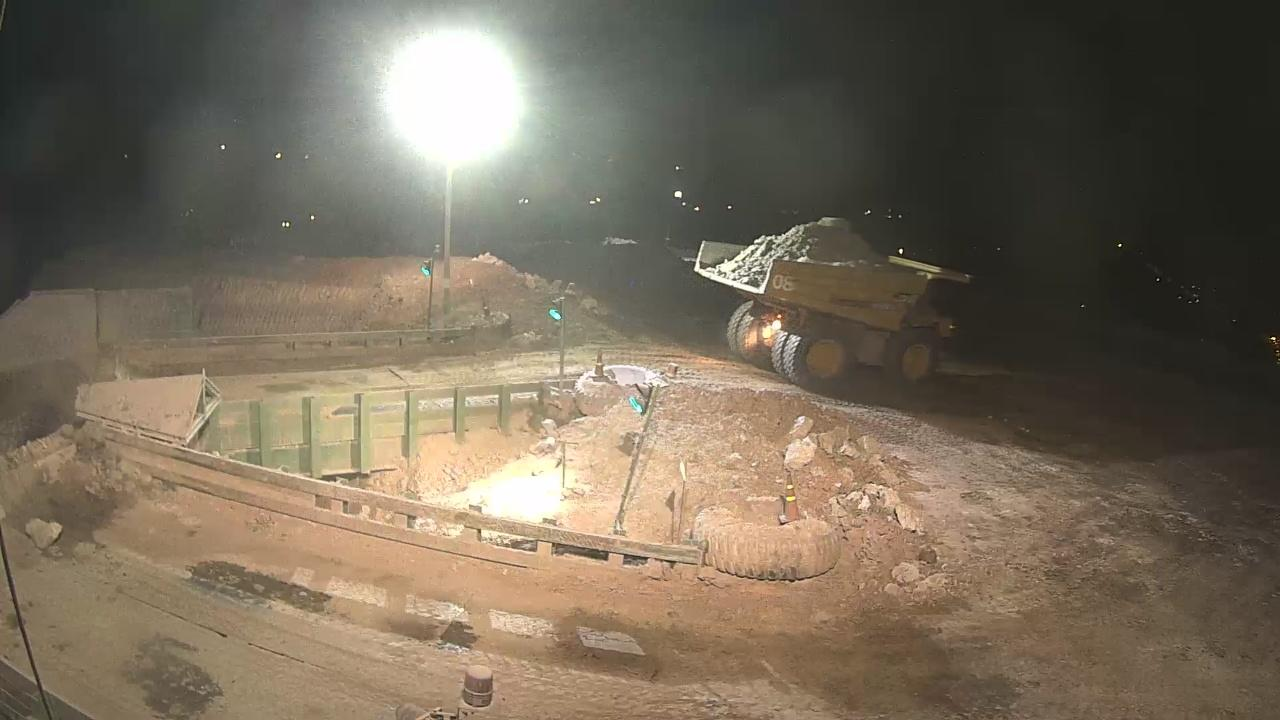full_load: (718, 220, 900, 290)
mining_truck: (690, 214, 977, 391)
tail_number: (770, 272, 801, 296)
